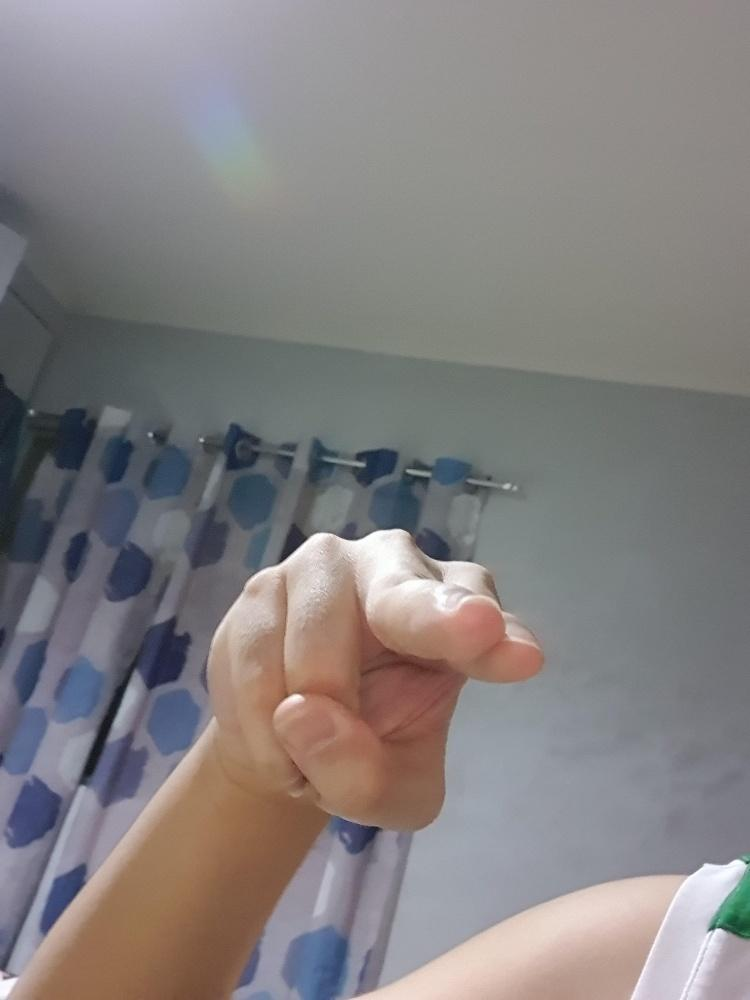n: (203, 522, 549, 840)
